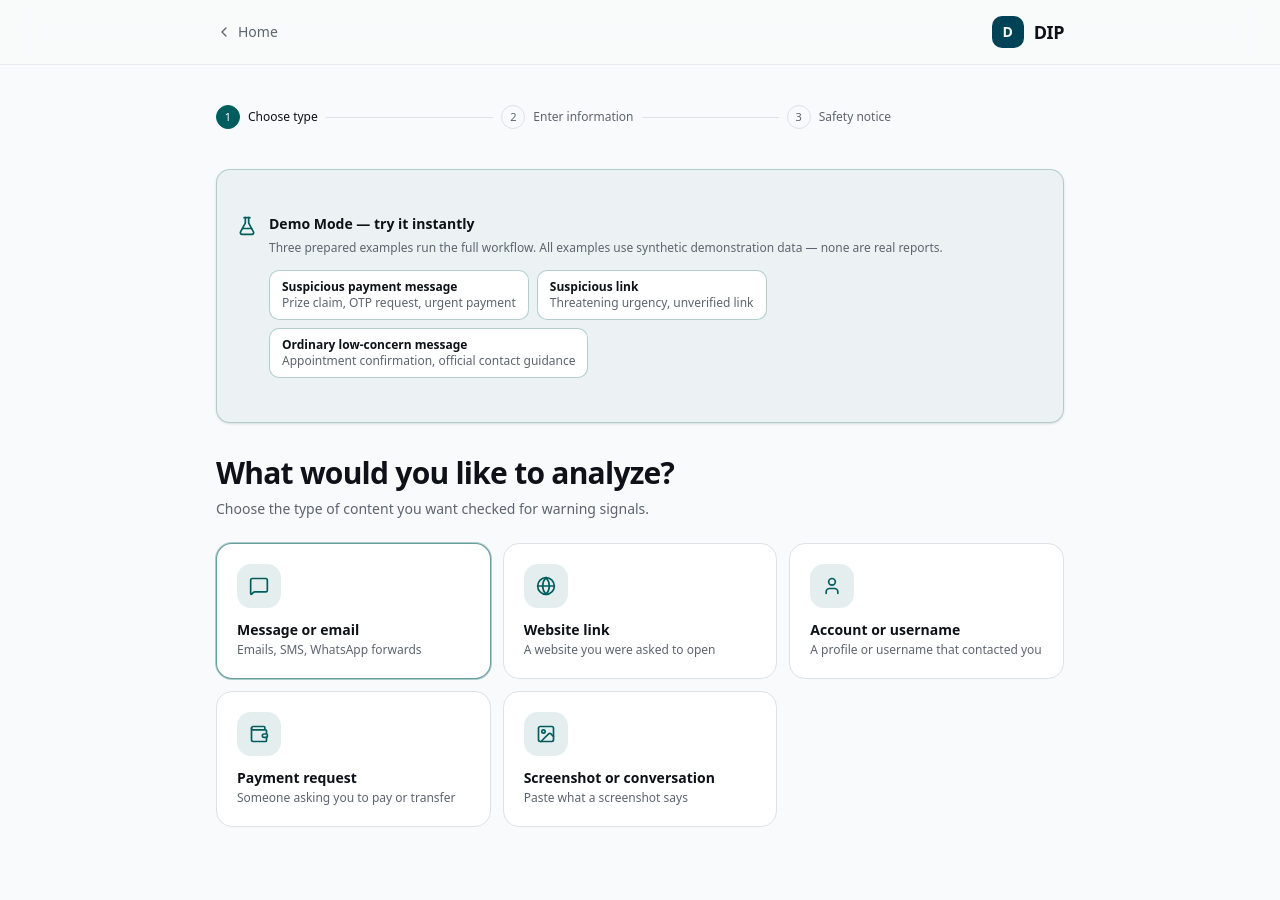
it: QA audit: DIP browser-level checks › 4. suspicious payment demo can be selected
Expected: the text "Demo Mode — try it instantly" is shown, top-left (269, 214), bottom-right (474, 233)
Click the text "Suspicious payment message": (370, 286) top-left (282, 278), bottom-right (458, 294)
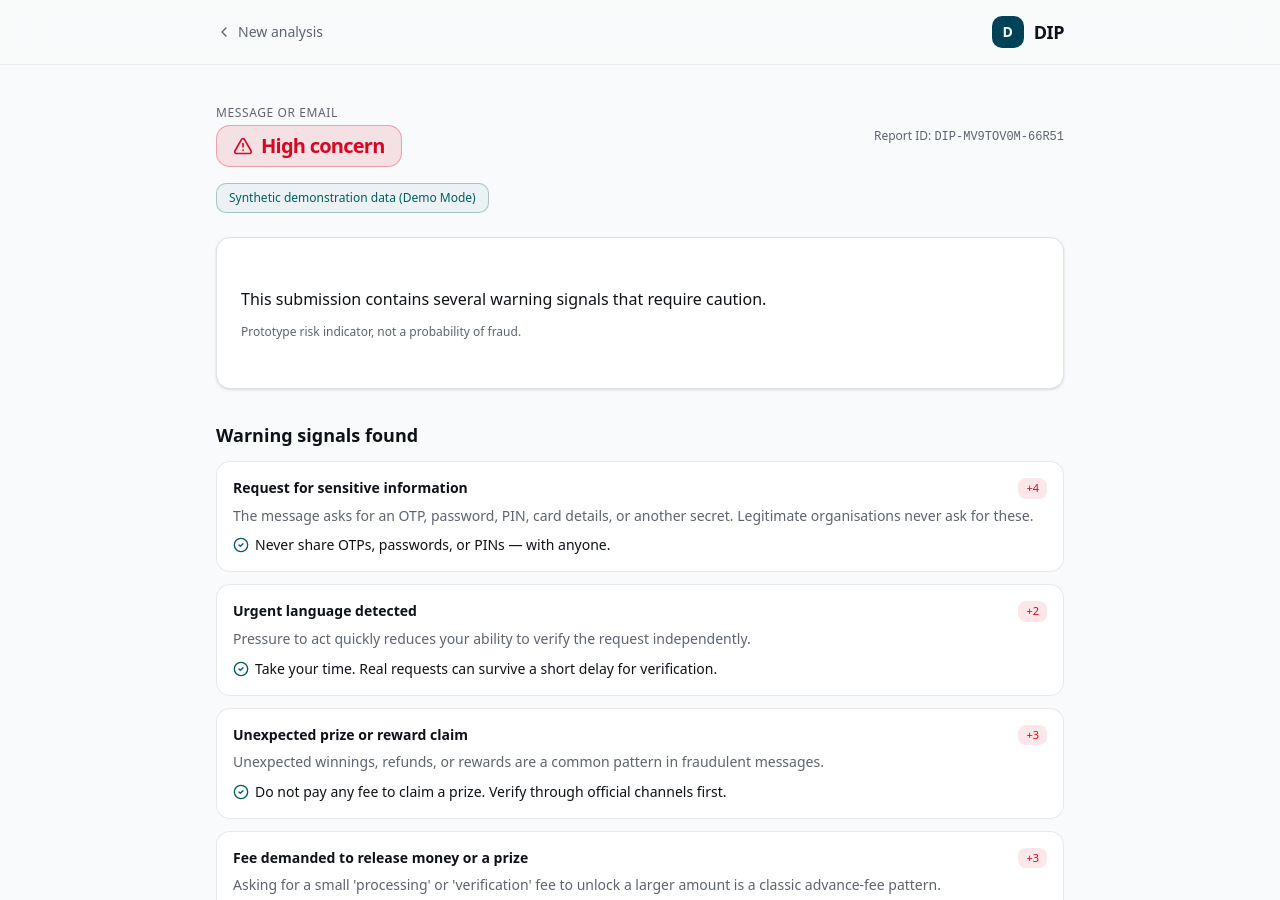
Expected: the text "High concern" is shown, top-left (216, 125), bottom-right (402, 167)
